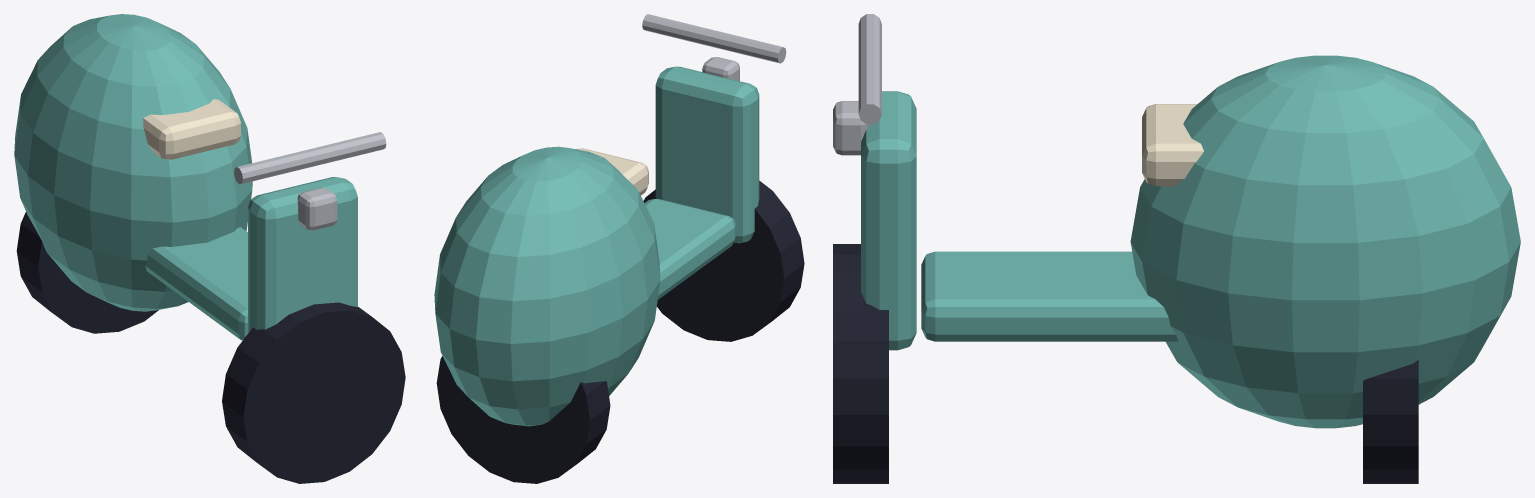
Rendered from vespa.glb.
The picture shows the model from 3 angles, left to right: view 1: azimuth 30°, elevation 25°; view 2: azimuth 150°, elevation 25°; view 3: azimuth 270°, elevation 25°; orthographic projection. The views are drawn at different scales.
Parts seen in each view (by area): view 1: vespa-rear, vespa-wheel-front, vespa-shield, vespa-floor, vespa-wheel-rear, vespa-seat, vespa-handlebar, vespa-headlight; view 2: vespa-rear, vespa-shield, vespa-wheel-front, vespa-wheel-rear, vespa-floor, vespa-handlebar, vespa-seat, vespa-headlight; view 3: vespa-rear, vespa-floor, vespa-shield, vespa-wheel-front, vespa-wheel-rear, vespa-seat, vespa-handlebar, vespa-headlight.
Boxes of the visible parts, left/top/right/bottom form: vespa-rear: left=14, top=14, right=252, bottom=311; vespa-wheel-front: left=222, top=302, right=405, bottom=483; vespa-shield: left=248, top=177, right=357, bottom=333; vespa-floor: left=145, top=227, right=247, bottom=340; vespa-wheel-rear: left=16, top=212, right=158, bottom=333; vespa-seat: left=143, top=99, right=240, bottom=159; vespa-handlebar: left=234, top=132, right=386, bottom=184; vespa-headlight: left=297, top=188, right=337, bottom=230; vespa-rear: left=434, top=146, right=660, bottom=426; vespa-shield: left=655, top=66, right=759, bottom=243; vespa-wheel-front: left=643, top=180, right=804, bottom=341; vespa-wheel-rear: left=436, top=356, right=610, bottom=483; vespa-floor: left=644, top=199, right=735, bottom=299; vespa-handlebar: left=642, top=14, right=786, bottom=63; vespa-seat: left=576, top=148, right=648, bottom=195; vespa-headlight: left=702, top=57, right=739, bottom=81; vespa-rear: left=1130, top=55, right=1520, bottom=428; vespa-floor: left=921, top=251, right=1178, bottom=341; vespa-shield: left=861, top=91, right=916, bottom=350; vespa-wheel-front: left=833, top=244, right=888, bottom=483; vespa-wheel-rear: left=1363, top=360, right=1418, bottom=483; vespa-seat: left=1142, top=104, right=1203, bottom=186; vespa-handlebar: left=858, top=14, right=881, bottom=124; vespa-headlight: left=833, top=101, right=870, bottom=155.
Bounding box in the file's own units: 0.5956 × 0.9838 × 1.48.
